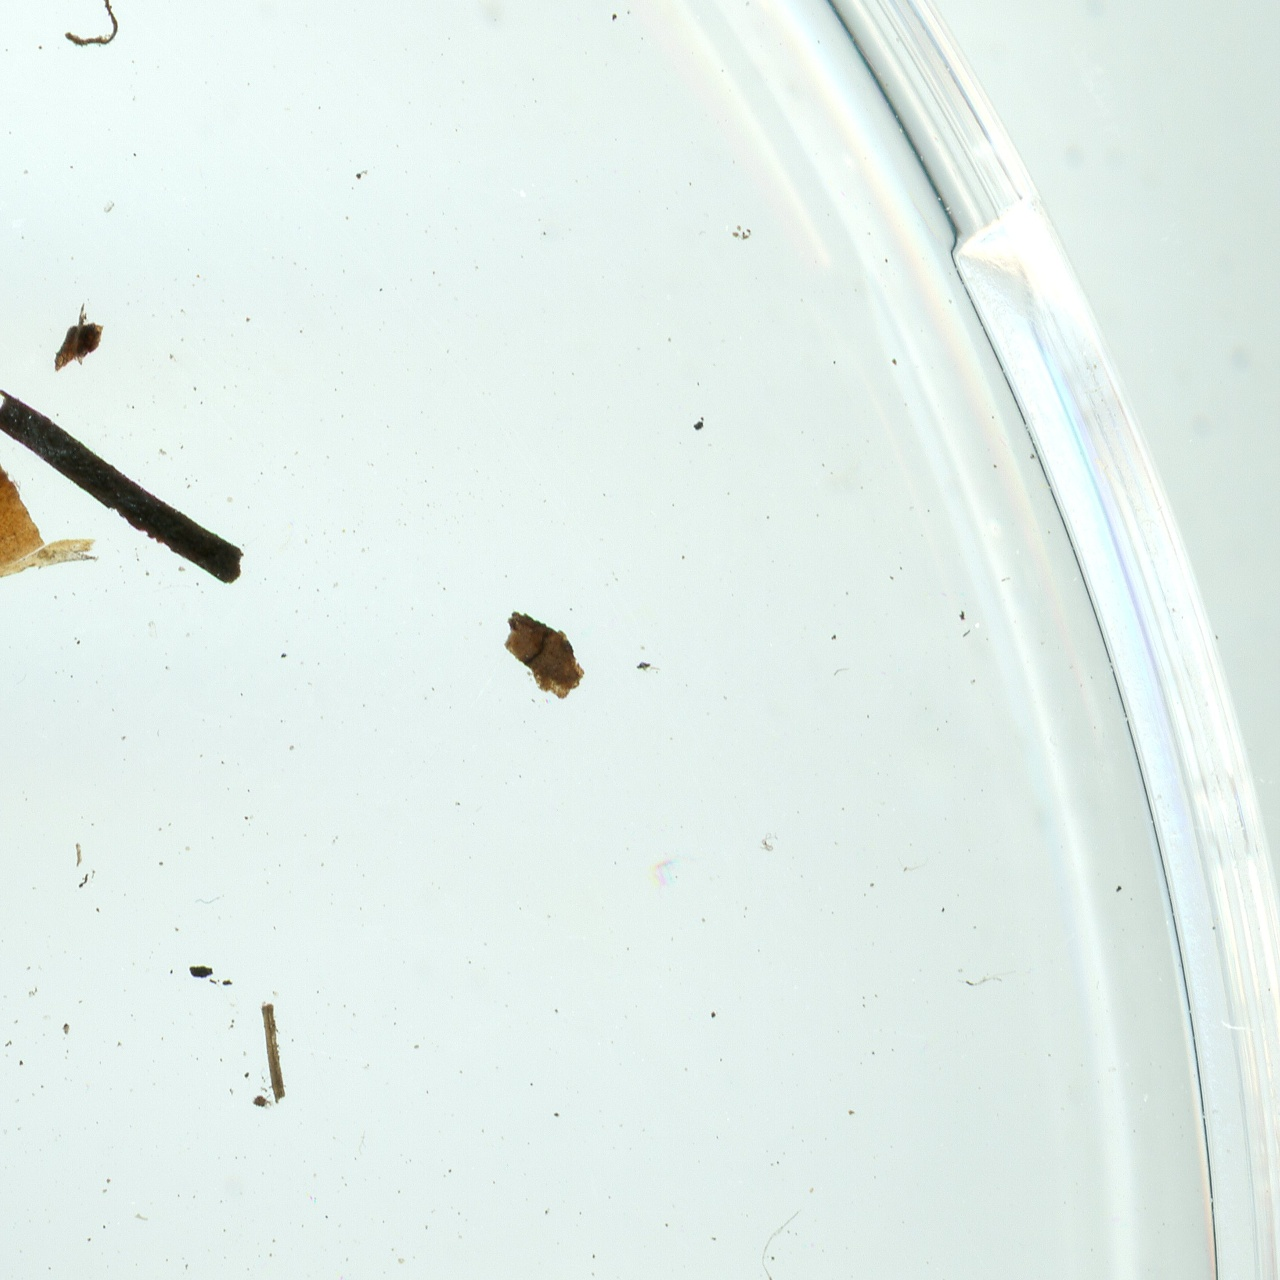arthropod: (41, 308, 114, 387)
